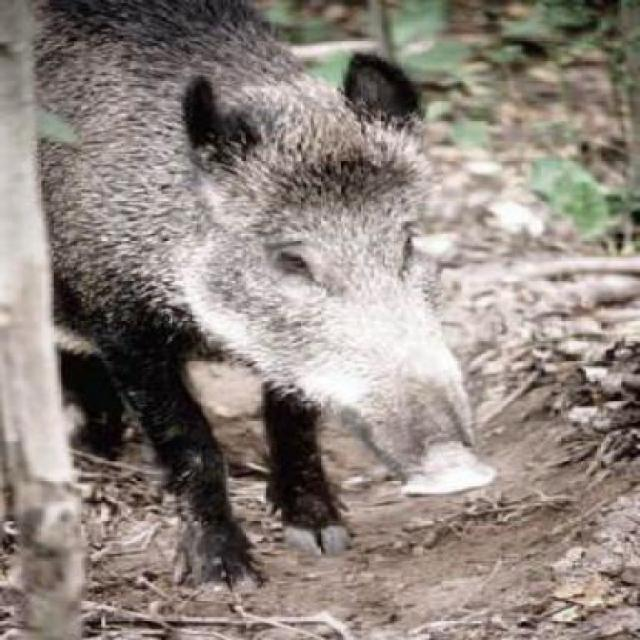Boar: (0, 0, 521, 598)
